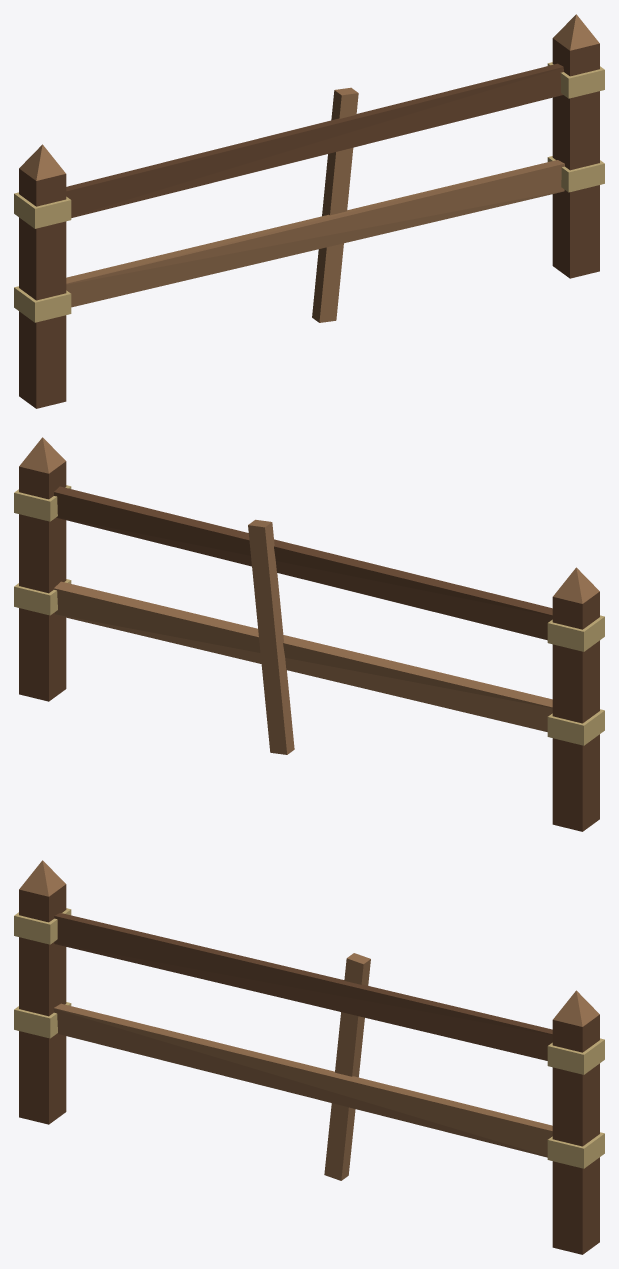
File: fence_wood.fbx
3 renders of one model, top to bottom at view 1: azimuth 30°, elevation 25°; view 2: azimuth 150°, elevation 25°; view 3: azimuth 330°, elevation 25°, orthographic.
Visible parts, largest first — view 1: fence_wood; view 2: fence_wood; view 3: fence_wood.
Part boxes in pixels (x1,y1,x2,y2): fence_wood: [14, 14, 604, 408]; fence_wood: [14, 437, 604, 831]; fence_wood: [14, 860, 604, 1254].
Size of the model in its own units: 2.67 by 1.14 by 0.17.
